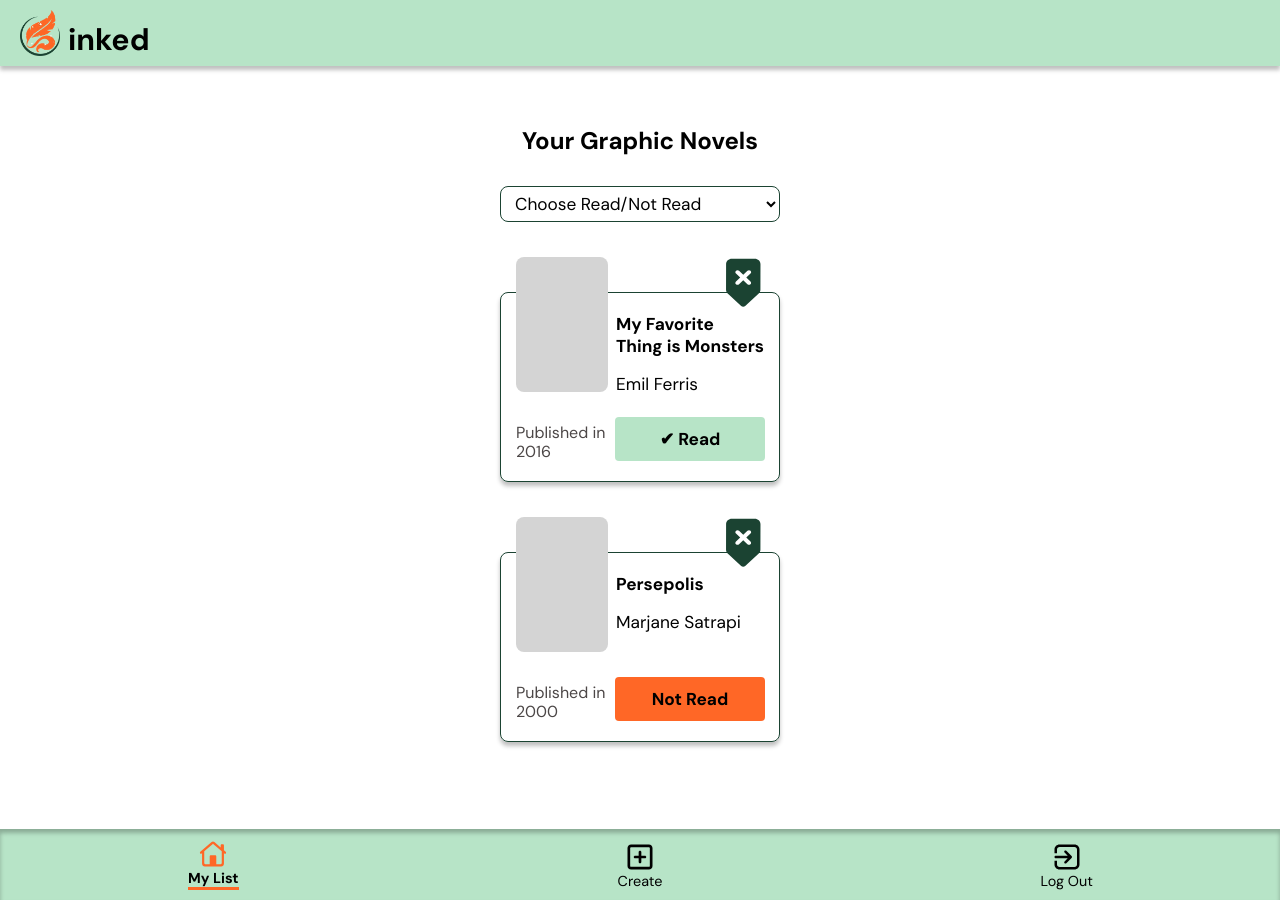
Test: Given an App component › When the user clicks on the 'Read' button in the 'My Favorite Thing is Monsters' card › Then it should toggle the button to 'Not Read'
The image size is (1280, 900).
Click the button "✔ Read" at (690, 439), box [615,417,765,461]
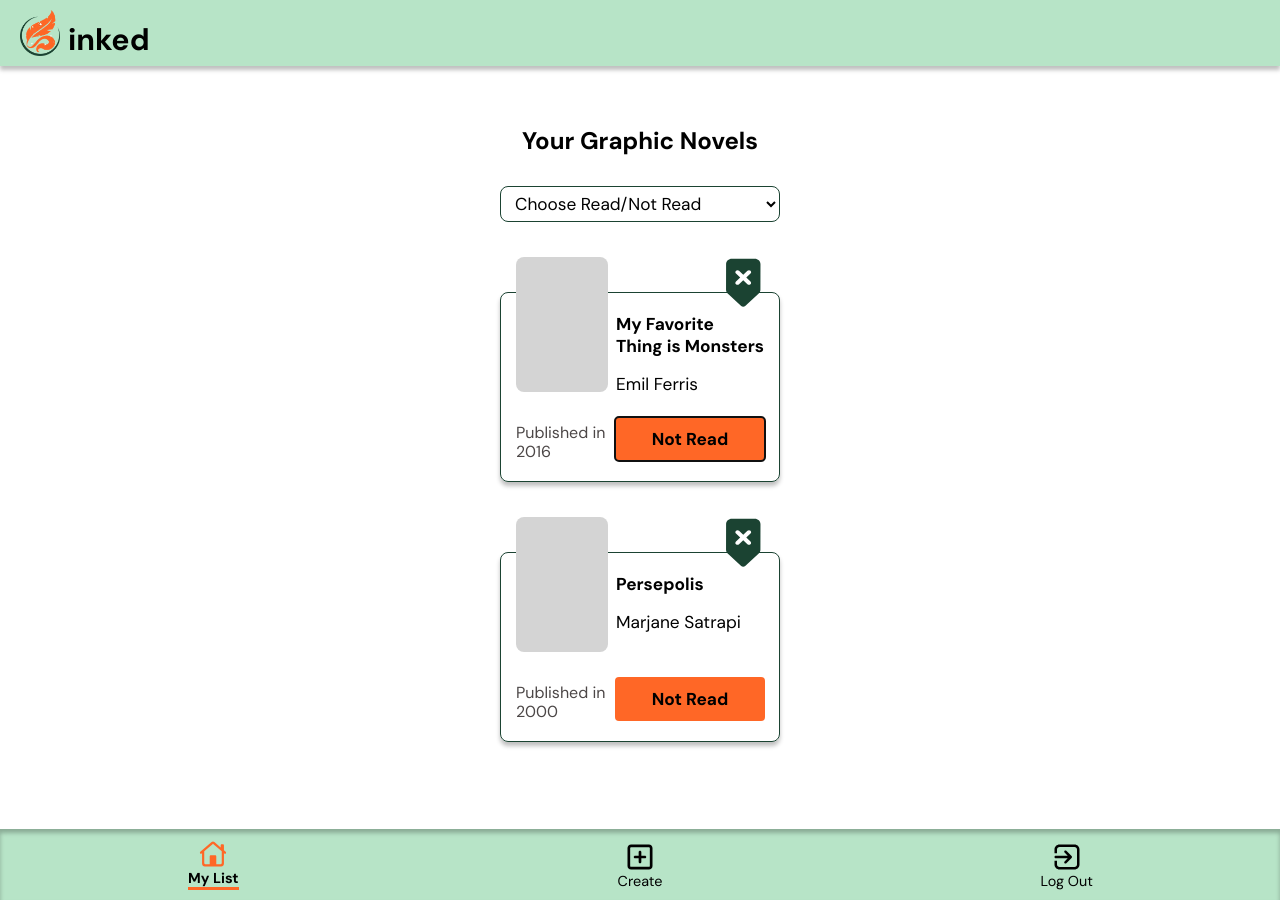
Expected: the button "Not Read" in the row of "2016" is shown, [615,417,765,461]
